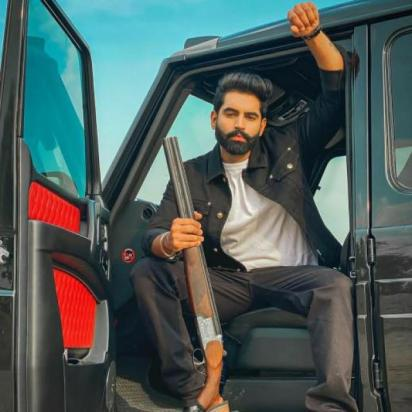Gun: (160, 134, 231, 411)
